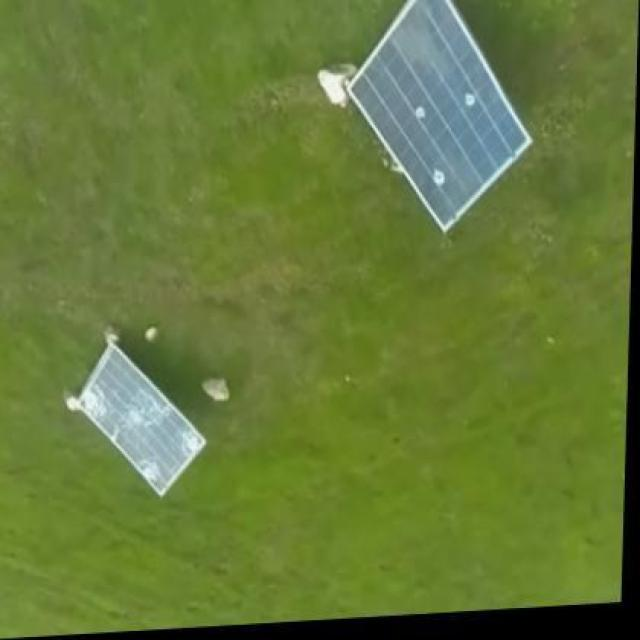cracked: (72, 343, 208, 501)
soiled: (346, 6, 542, 241)
